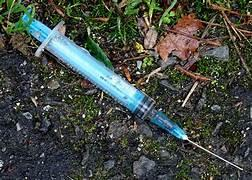Syringe: (28, 20, 242, 169)
